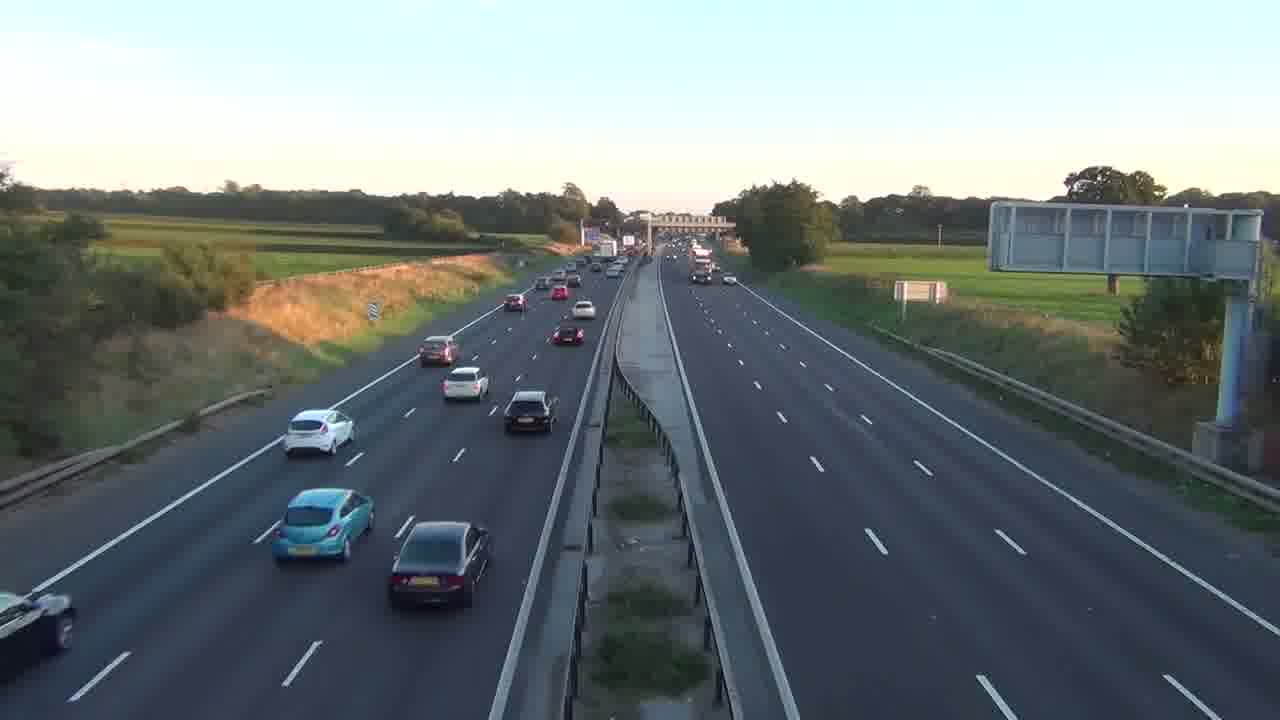car: (388, 516, 494, 609), (271, 487, 375, 562), (504, 389, 558, 435), (440, 366, 488, 403), (416, 335, 462, 368), (550, 322, 586, 346), (572, 299, 596, 320)
